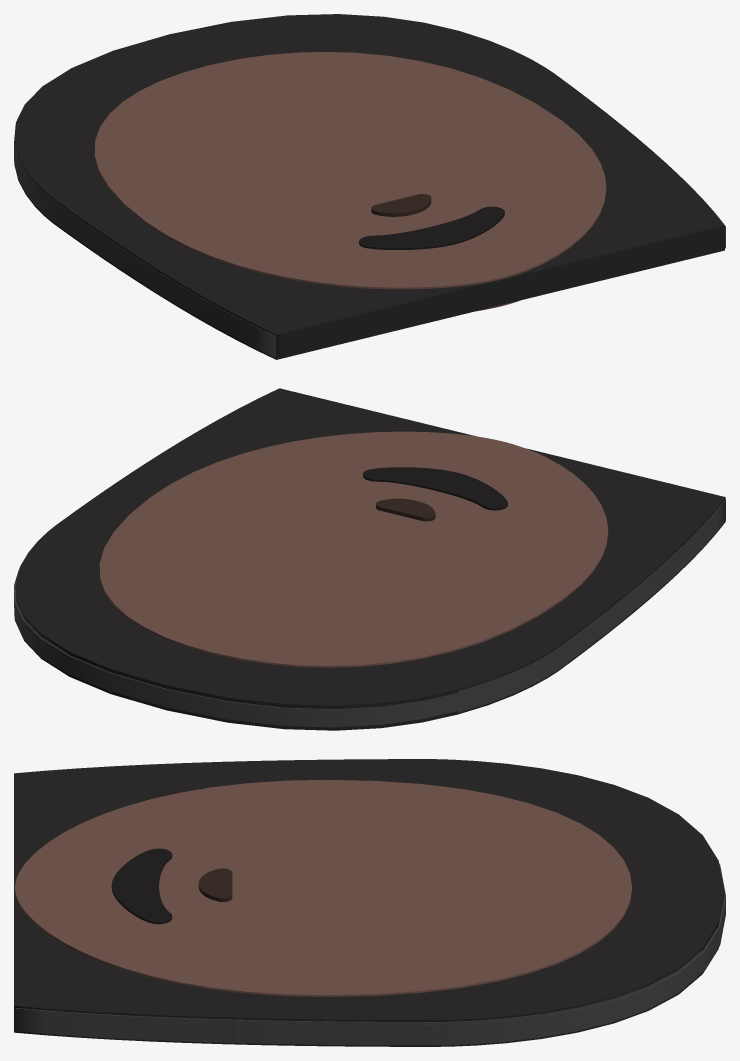
Rendered from emoji_u1f469_1f3ff.glb.
3 renders of one model, top to bottom at view 1: azimuth 30°, elevation 25°; view 2: azimuth 150°, elevation 25°; view 3: azimuth 270°, elevation 25°, orthographic. The views are drawn at different scales.
Parts seen in each view (by area): view 1: emoji_u1f469_1f3ff; view 2: emoji_u1f469_1f3ff; view 3: emoji_u1f469_1f3ff.
Boxes of the visible parts, box(x1,y1,x2,y2) form: emoji_u1f469_1f3ff: box(14, 14, 725, 359); emoji_u1f469_1f3ff: box(14, 388, 725, 730); emoji_u1f469_1f3ff: box(14, 759, 725, 1046).
Bounding box in the file's own units: 0.0293 × 0.002 × 0.0337.
